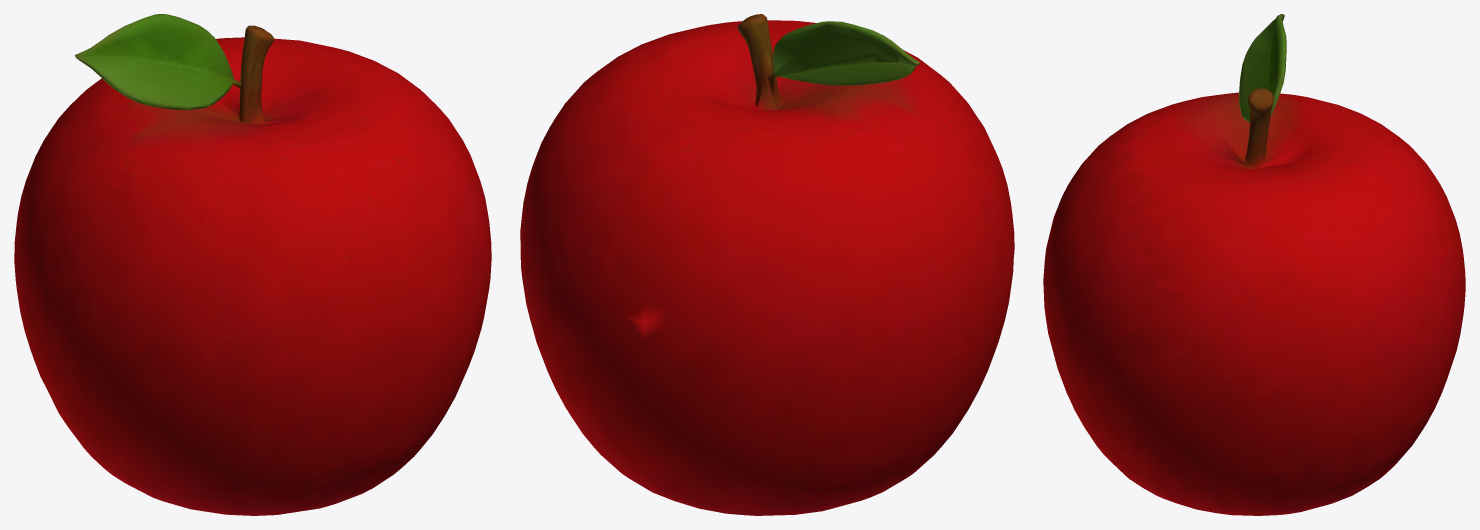
The model's file is apple-red.glb.
3 renders of one model, left to right at view 1: azimuth 30°, elevation 25°; view 2: azimuth 150°, elevation 25°; view 3: azimuth 270°, elevation 25°, orthographic. The views are drawn at different scales.
Visible parts, largest first — view 1: material; view 2: material; view 3: material.
Part boxes in pixels (<box>): material: <box>14,14,491,515</box>; material: <box>520,14,1014,515</box>; material: <box>1043,14,1465,515</box>.
Bounding box in the file's own units: 0.9628 × 1.02 × 0.9609.
1 material, 1 textured.
